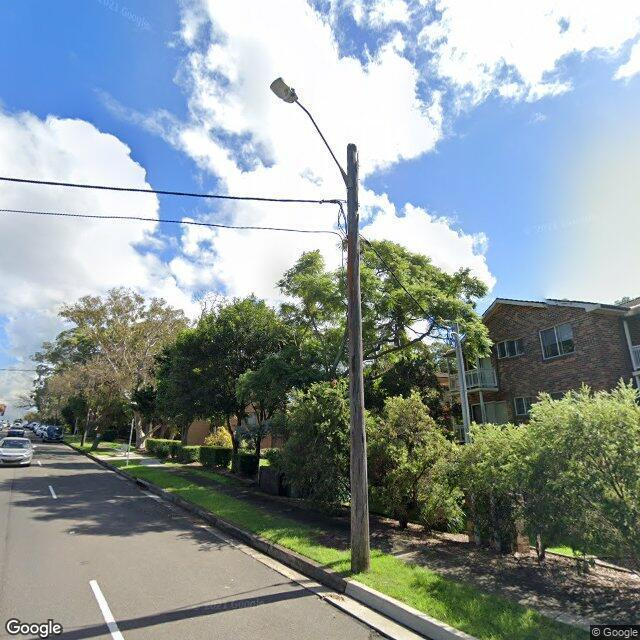steel-pole: (453, 322, 472, 444)
streetlight: (270, 76, 351, 188)
timber-pole: (346, 143, 371, 572)
